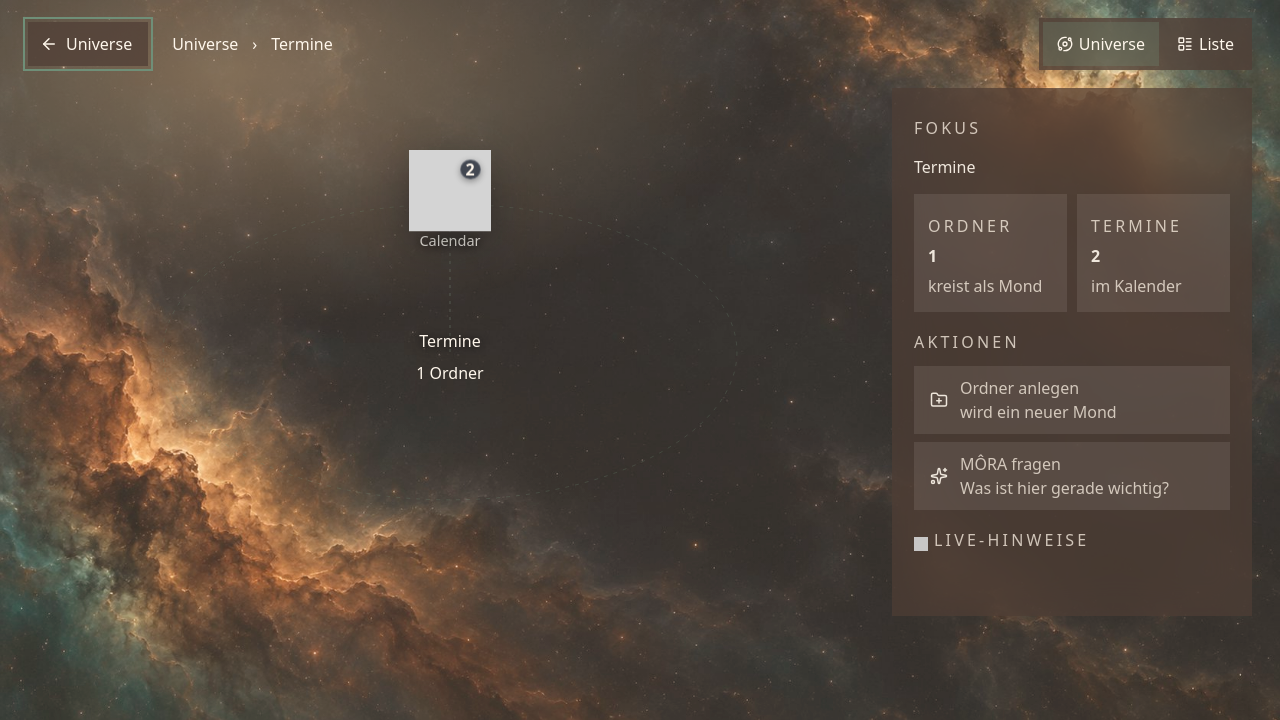
it: FinderVerse › zooms planet → moon → star, switches to list and back with a breadcrumb
The width and height of the screenshot is (1280, 720).
Click the button with test id "fv-moon-f1". click: (450, 204)
box: [412,153,488,256]
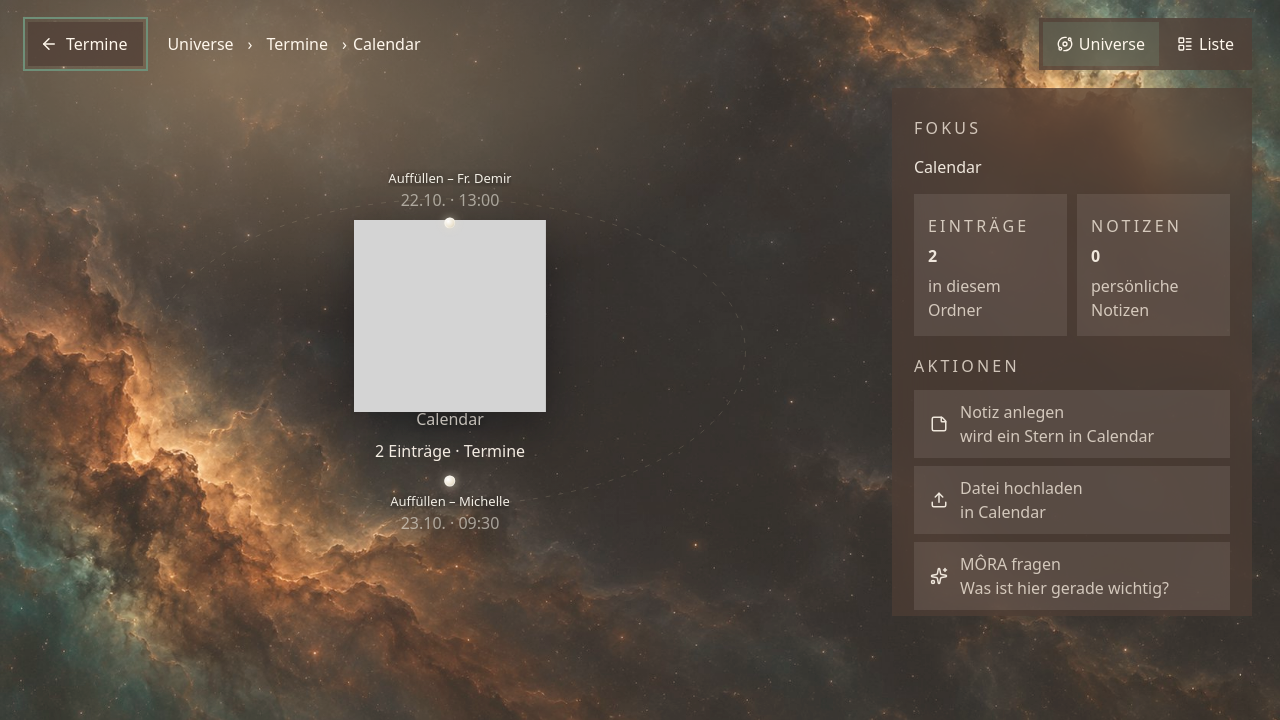
Expected: the navigation bar with test id "fv-crumbs" shows "Calendar", [353,33,421,55]
Click the button with test id "fv-star-n1". click: (450, 505)
box: [384,470,516,541]
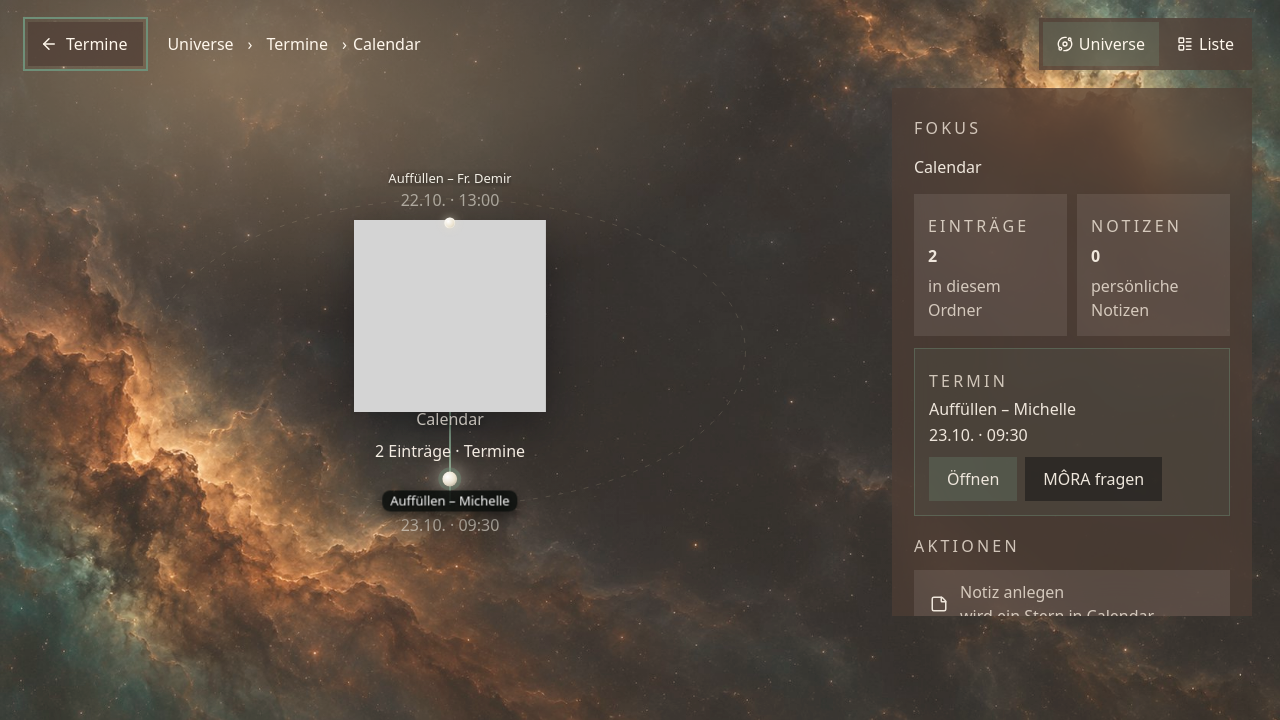
Expected: the element with test id "fv-selected" shows "Auffüllen – Michelle", [929,398,1076,420]
Click the button with test id "fv-view-list". click: (1206, 44)
box: [1163,22,1248,66]
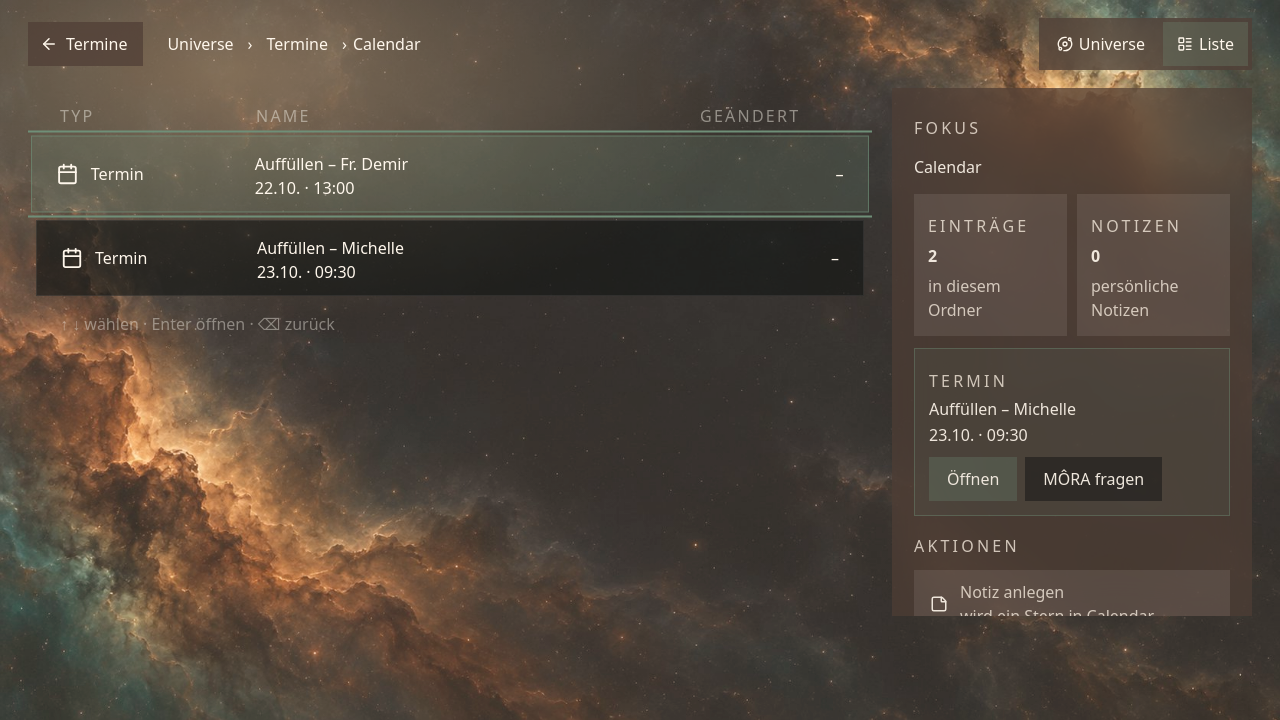
Expected: the list item with test id "fv-row-n2" is shown, [31,136,869,212]
Click the button with test id "fv-up". click: (86, 44)
box: [28,22,143,66]
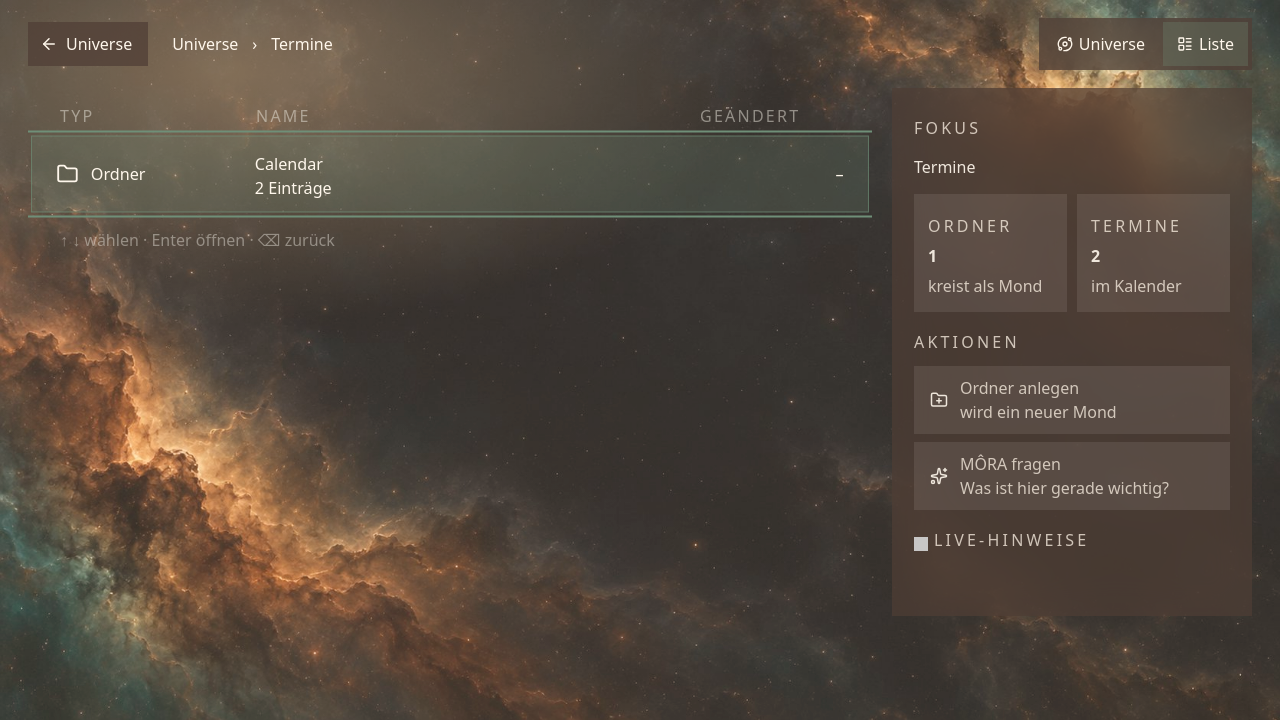
Expected: the list item with test id "fv-row-f1" is shown, [31,136,869,212]
